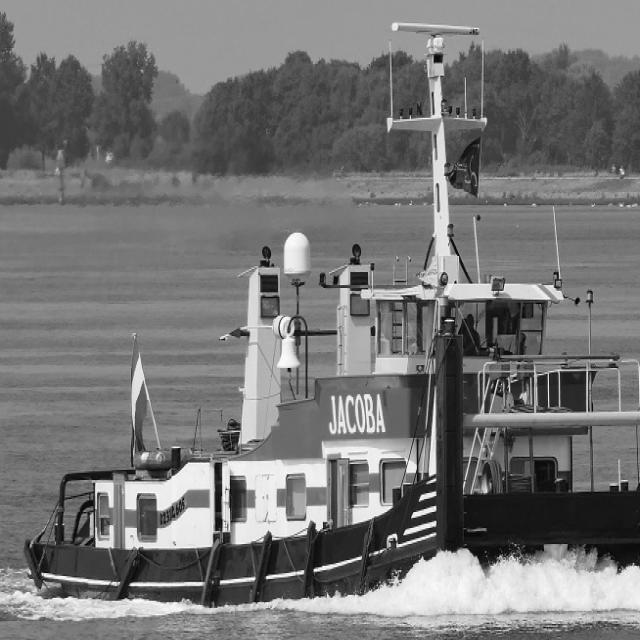tugboat: (20, 17, 640, 622)
